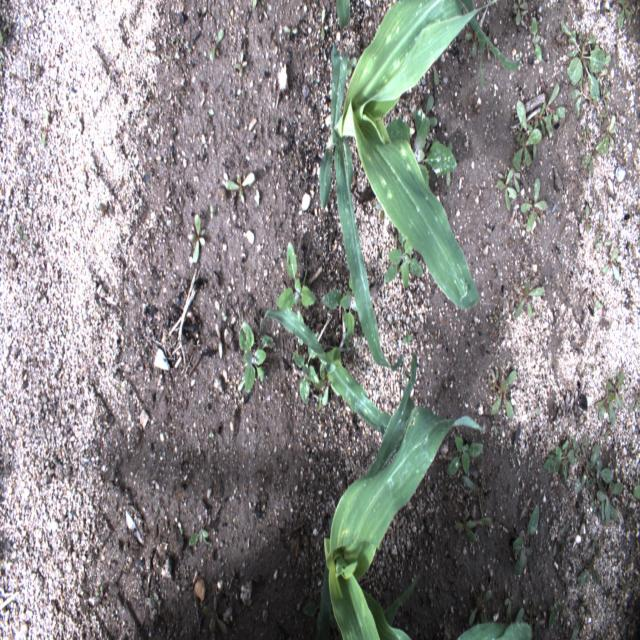crop: (319, 2, 525, 372), (312, 347, 484, 638), (258, 306, 390, 437), (456, 608, 537, 636)
weed: (386, 89, 456, 185), (506, 80, 568, 174), (573, 427, 626, 534), (561, 19, 613, 124), (276, 230, 317, 310), (237, 312, 274, 398), (569, 114, 619, 176), (290, 346, 336, 410), (514, 168, 552, 238), (588, 367, 628, 431), (383, 230, 425, 289), (511, 502, 543, 579), (322, 279, 357, 349), (591, 208, 623, 284), (537, 428, 581, 482), (527, 584, 571, 631), (448, 437, 486, 488), (570, 535, 603, 593), (513, 270, 546, 326), (447, 503, 492, 543), (487, 366, 517, 423), (221, 166, 258, 210), (494, 165, 524, 216), (199, 591, 231, 637), (186, 206, 209, 265), (463, 32, 487, 84), (528, 13, 548, 68), (464, 580, 494, 616), (550, 518, 574, 558), (229, 42, 253, 80), (611, 1, 638, 33), (575, 198, 594, 238), (213, 317, 230, 361), (210, 18, 226, 64), (189, 516, 210, 550), (570, 606, 590, 637), (94, 190, 114, 220), (510, 1, 530, 30), (590, 284, 606, 319), (312, 6, 329, 38), (12, 220, 31, 248), (277, 22, 300, 44), (3, 246, 20, 272), (0, 17, 8, 68), (171, 508, 185, 536), (39, 113, 49, 152), (399, 321, 415, 344), (204, 195, 217, 222), (500, 587, 517, 606), (630, 377, 638, 416), (206, 424, 218, 449), (431, 62, 442, 89), (250, 1, 266, 14), (631, 481, 638, 508)
